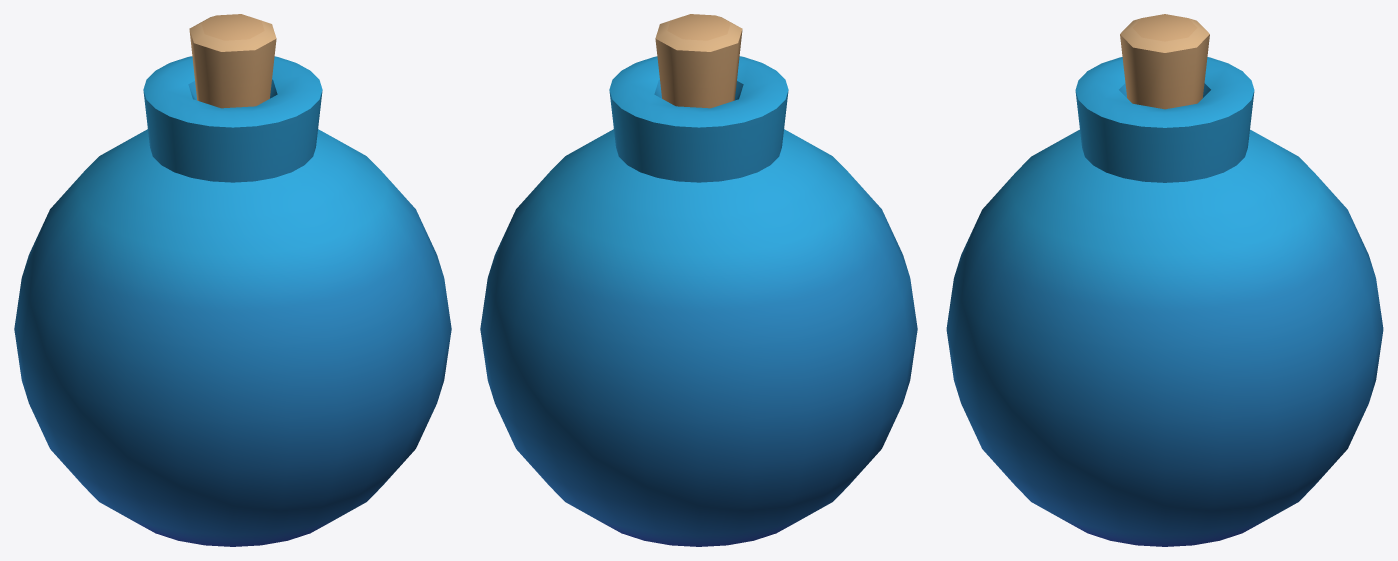
The model's file is bomb-a-blue.glb.
3 views of the same model, side by side, from view 1: azimuth 30°, elevation 25°; view 2: azimuth 150°, elevation 25°; view 3: azimuth 270°, elevation 25° (orthographic).
Parts seen in each view (by area): view 1: bomb_A_blue; view 2: bomb_A_blue; view 3: bomb_A_blue.
Part boxes in pixels (x1,y1,x2,y2): bomb_A_blue: (14, 14, 451, 546); bomb_A_blue: (480, 14, 917, 546); bomb_A_blue: (946, 14, 1383, 546).
Size of the model in its own units: 0.8 by 1.01 by 0.8.
1 material, 1 textured.
